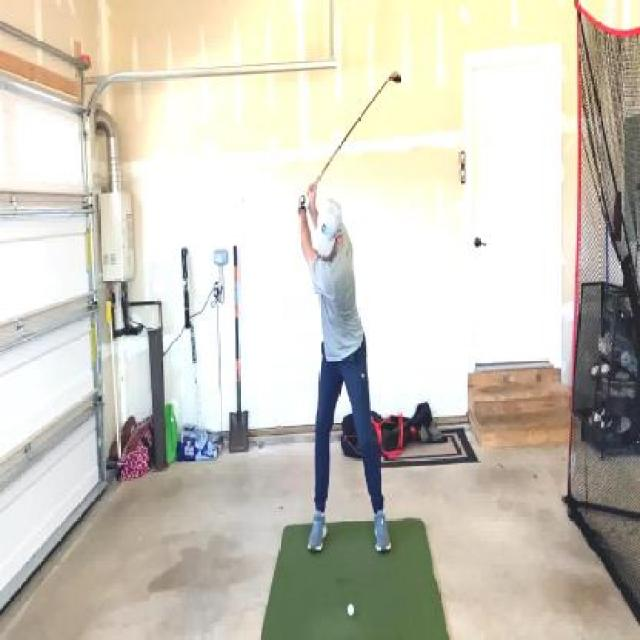club head: (384, 70, 402, 84)
